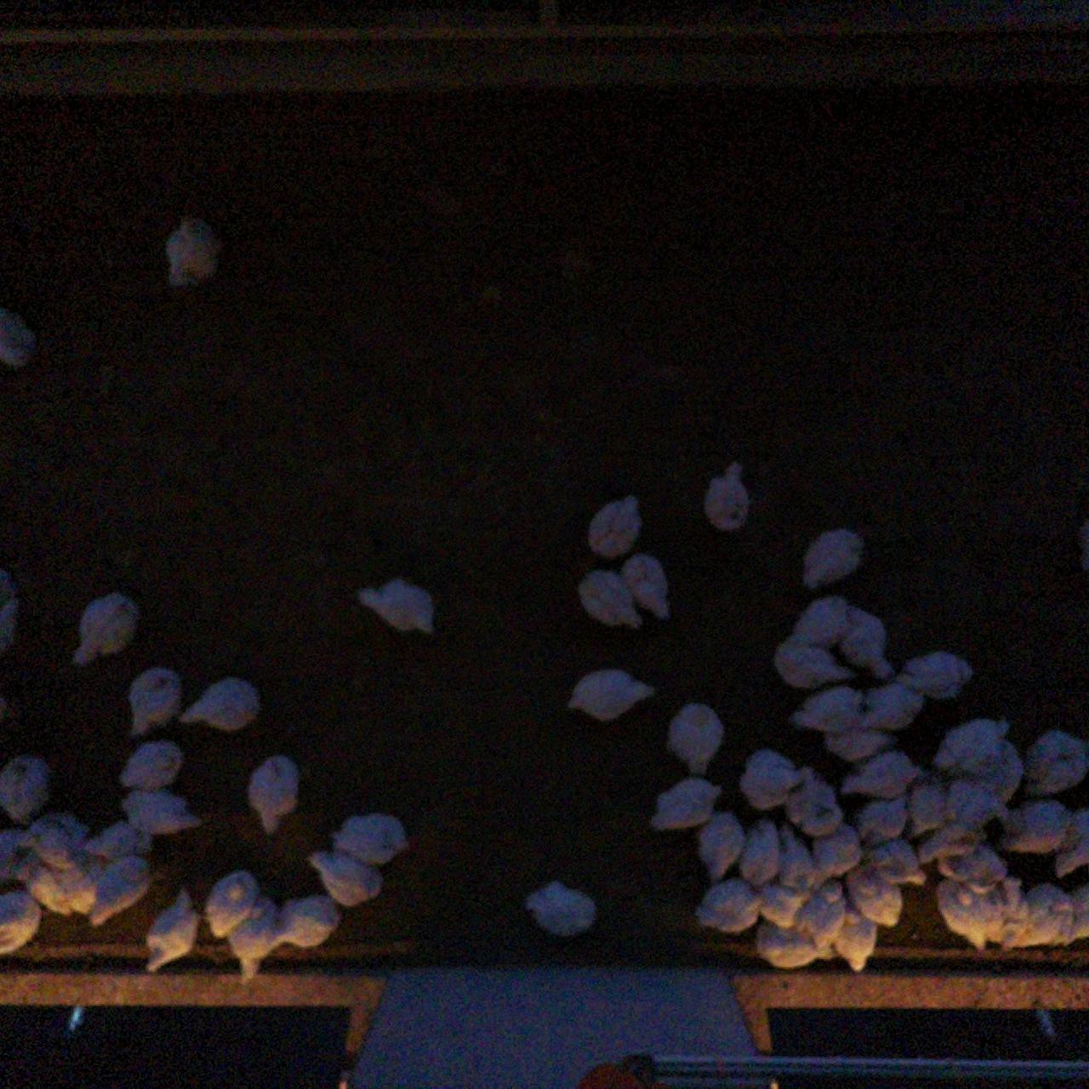chicken: (158, 205, 232, 297), (83, 852, 158, 931), (68, 591, 142, 670), (564, 664, 659, 725), (176, 673, 265, 737), (355, 573, 441, 639), (736, 745, 818, 812), (143, 885, 203, 976), (116, 784, 207, 844), (929, 716, 1015, 779), (662, 699, 730, 777), (245, 750, 304, 837), (304, 848, 388, 909), (521, 877, 600, 940), (328, 807, 415, 864), (1020, 727, 1089, 798), (771, 636, 856, 693), (784, 678, 872, 733), (127, 664, 189, 742), (575, 566, 648, 632), (227, 894, 281, 983), (646, 776, 726, 836), (800, 524, 869, 593), (583, 489, 648, 562), (14, 811, 98, 867), (896, 646, 977, 704), (0, 750, 59, 829), (839, 601, 896, 681), (700, 456, 759, 533), (997, 798, 1075, 855), (945, 774, 1023, 831), (932, 876, 989, 953), (839, 747, 925, 798), (691, 876, 765, 935), (271, 892, 345, 951), (842, 863, 906, 931), (204, 865, 261, 941), (694, 806, 748, 885), (781, 777, 846, 841), (793, 882, 851, 952), (985, 873, 1033, 956), (936, 843, 1012, 894), (1021, 881, 1077, 949), (116, 736, 186, 790), (787, 593, 853, 650), (621, 549, 673, 621), (857, 682, 930, 733), (755, 916, 822, 971), (831, 904, 879, 976), (864, 835, 930, 887), (811, 821, 865, 882), (904, 777, 955, 841), (854, 793, 910, 851), (915, 822, 987, 867), (740, 819, 784, 889), (1049, 806, 1089, 883), (751, 880, 811, 931), (0, 888, 43, 957), (76, 820, 156, 857), (779, 825, 821, 895), (817, 724, 893, 762), (0, 305, 41, 373), (25, 861, 73, 918), (0, 827, 46, 885), (66, 856, 106, 917), (0, 572, 25, 646), (1070, 878, 1089, 945)
